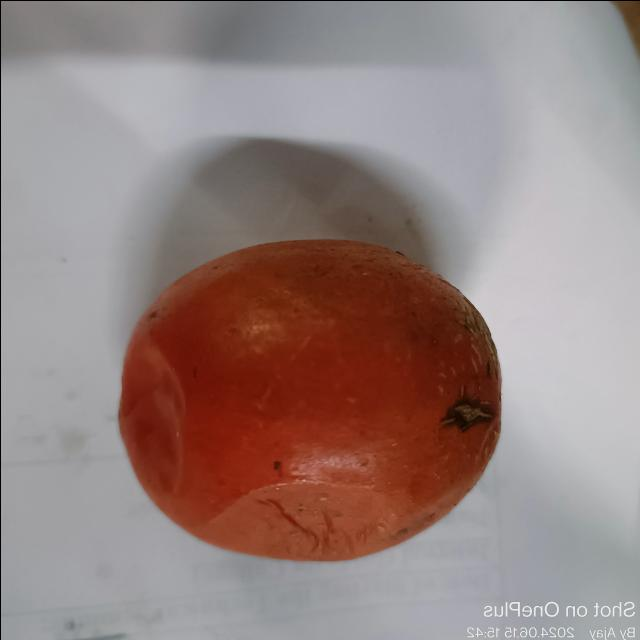Botrytis: (442, 396, 494, 433)
